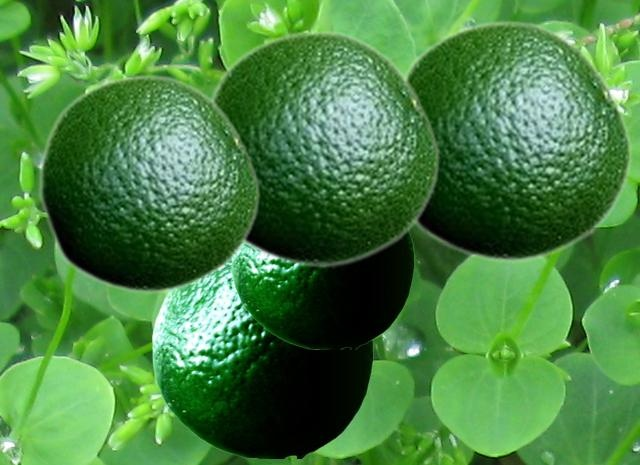calamansi: (403, 19, 632, 263), (207, 29, 440, 268), (37, 73, 260, 294), (152, 264, 372, 457), (231, 233, 413, 348)
